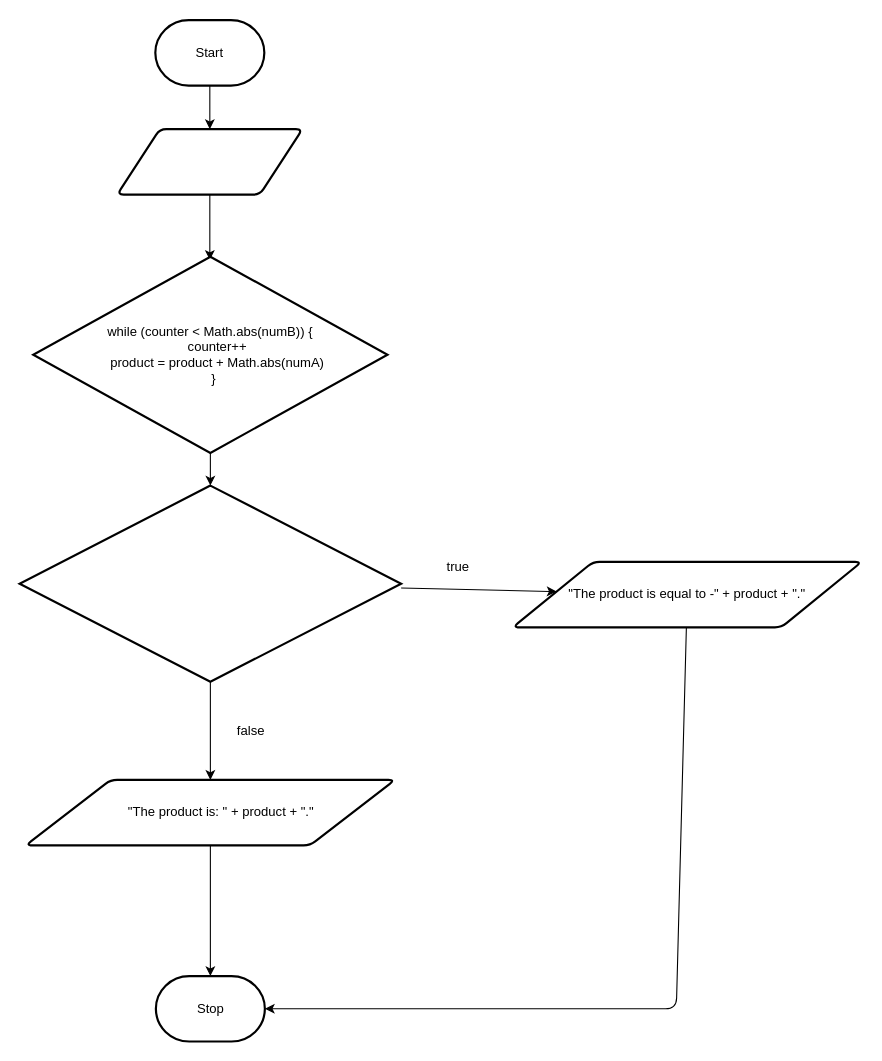
Some shapes in this 882 by 1061 pixel diagram are drawn without their labels. The shapes that lost their labels are listed below. From the top down, each one's box as (x1, y1, x2, y2) in pixels, then its label:
(116, 128, 303, 195): User inputs the two numbers
(18, 484, 402, 682): if ((numA < 0 && numB > 0) || (numB < 0 && numA > 0))
